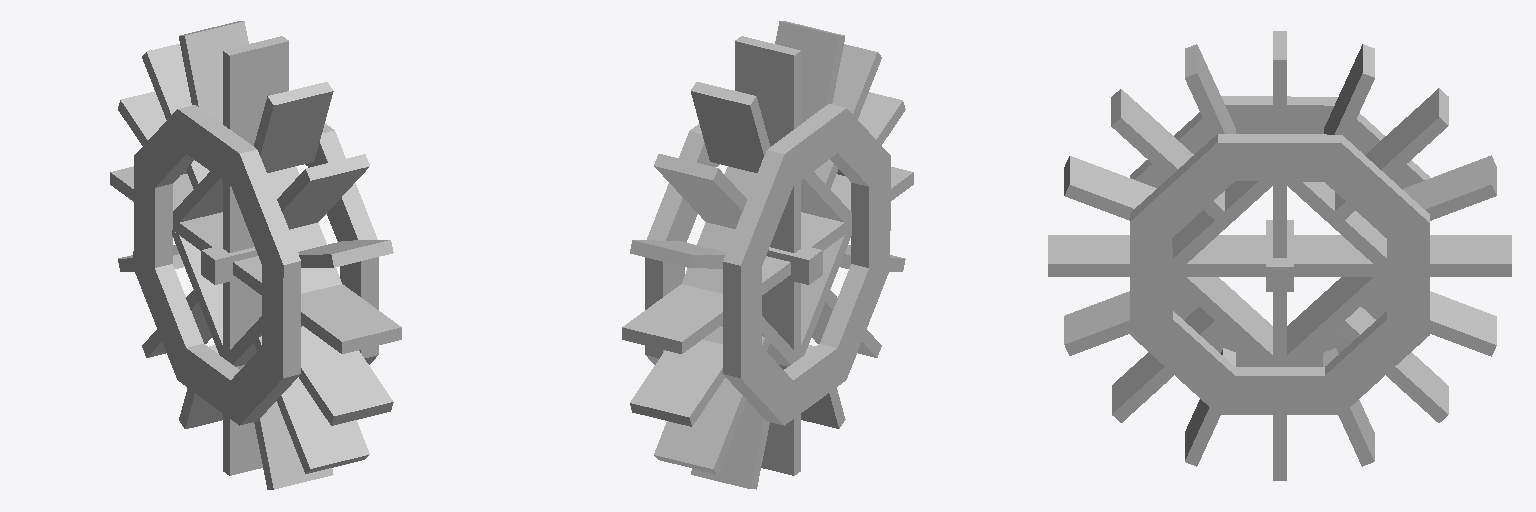
Rendered from undershot.obj.
3 views of the same model, side by side, from view 1: azimuth 30°, elevation 25°; view 2: azimuth 150°, elevation 25°; view 3: azimuth 270°, elevation 25° (orthographic).
Visible parts, largest first — view 1: Cube.015_Cube.004, F_Wheel.003_Cube.030, Cube.006_Cube.023, Cube.007_Cube.025, F_Wheel.002_Cube.029, Cube.002_Cube.024, Cube.008_Cube.026, Cube.001_Cube.006, Cube.000_Cube.008, C_Cube_Cube.001, Cube.009_Cube.027; view 2: Cube.015_Cube.004, F_Wheel.003_Cube.030, Cube.003_Cube.007, Cube.002_Cube.024, F_Wheel.002_Cube.029, Cube.007_Cube.025, Cube.009_Cube.027, Cube.000_Cube.008, Cube.001_Cube.006, C_Cube_Cube.001, Cube.008_Cube.026; view 3: Cube.015_Cube.004, F_Wheel.002_Cube.029, F_Wheel.003_Cube.030, Cube.000_Cube.008, Cube.001_Cube.006, Cube.003_Cube.007, Cube.006_Cube.023, Cube.002_Cube.024, Cube.007_Cube.025, Cube.009_Cube.027, Cube.008_Cube.026, C_Cube_Cube.001.
Boxes of the visible parts, x1=… form: Cube.015_Cube.004: x1=110, y1=36, x2=401, y2=475; F_Wheel.003_Cube.030: x1=133, y1=105, x2=300, y2=425; Cube.006_Cube.023: x1=299, y1=339, x2=393, y2=425; Cube.007_Cube.025: x1=254, y1=82, x2=333, y2=172; F_Wheel.002_Cube.029: x1=305, y1=124, x2=378, y2=364; Cube.002_Cube.024: x1=179, y1=21, x2=248, y2=123; Cube.008_Cube.026: x1=254, y1=401, x2=333, y2=489; Cube.001_Cube.006: x1=298, y1=240, x2=393, y2=267; Cube.000_Cube.008: x1=118, y1=91, x2=186, y2=174; C_Cube_Cube.001: x1=201, y1=245, x2=257, y2=284; Cube.009_Cube.027: x1=179, y1=345, x2=222, y2=428; Cube.015_Cube.004: x1=622, y1=36, x2=913, y2=475; F_Wheel.003_Cube.030: x1=723, y1=104, x2=890, y2=425; Cube.003_Cube.007: x1=630, y1=340, x2=725, y2=426; Cube.002_Cube.024: x1=691, y1=82, x2=769, y2=172; F_Wheel.002_Cube.029: x1=645, y1=124, x2=719, y2=364; Cube.007_Cube.025: x1=775, y1=21, x2=844, y2=123; Cube.009_Cube.027: x1=691, y1=401, x2=769, y2=489; Cube.000_Cube.008: x1=630, y1=240, x2=725, y2=268; Cube.001_Cube.006: x1=837, y1=92, x2=905, y2=175; C_Cube_Cube.001: x1=766, y1=245, x2=822, y2=284; Cube.008_Cube.026: x1=801, y1=345, x2=845, y2=428; Cube.015_Cube.004: x1=1048, y1=31, x2=1511, y2=480; F_Wheel.002_Cube.029: x1=1130, y1=134, x2=1429, y2=414; F_Wheel.003_Cube.030: x1=1130, y1=96, x2=1429, y2=366; Cube.000_Cube.008: x1=1402, y1=155, x2=1496, y2=220; Cube.001_Cube.006: x1=1064, y1=156, x2=1156, y2=220; Cube.003_Cube.007: x1=1430, y1=291, x2=1496, y2=356; Cube.006_Cube.023: x1=1064, y1=291, x2=1129, y2=355; Cube.002_Cube.024: x1=1324, y1=44, x2=1374, y2=138; Cube.007_Cube.025: x1=1185, y1=44, x2=1235, y2=137; Cube.009_Cube.027: x1=1323, y1=348, x2=1374, y2=466; Cube.008_Cube.026: x1=1185, y1=348, x2=1235, y2=466; C_Cube_Cube.001: x1=1266, y1=220, x2=1293, y2=291.
Bounding box in the file's own units: 1 × 4.2 × 4.2.